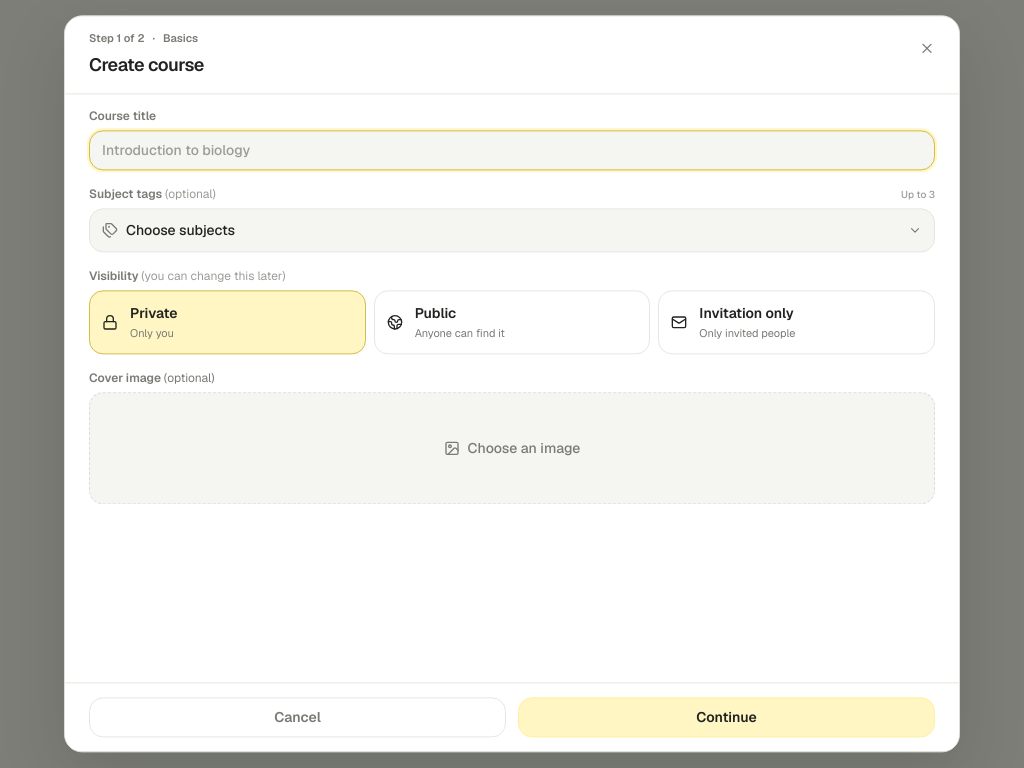
CreateCourseModal › validates the title before opening details
Expected: the text "Visibility" is shown, [89,268,138,284]
Expected: the text "(you can change this later)" is shown, [141,268,286,284]
Click the button "Continue".
click(726, 718)  # box [518,698,935,738]
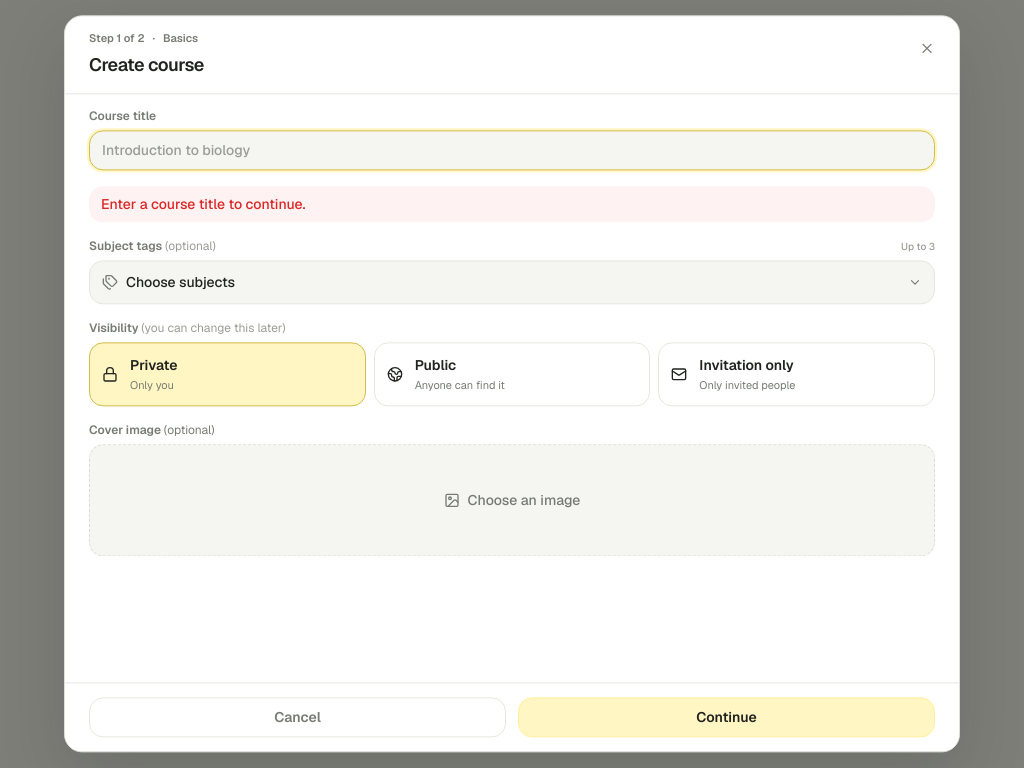
Expected: the text "Step 1 of 2" is shown, [89,30,144,47]
Now the message shows "Enter a course title", box [101,195,306,213]
